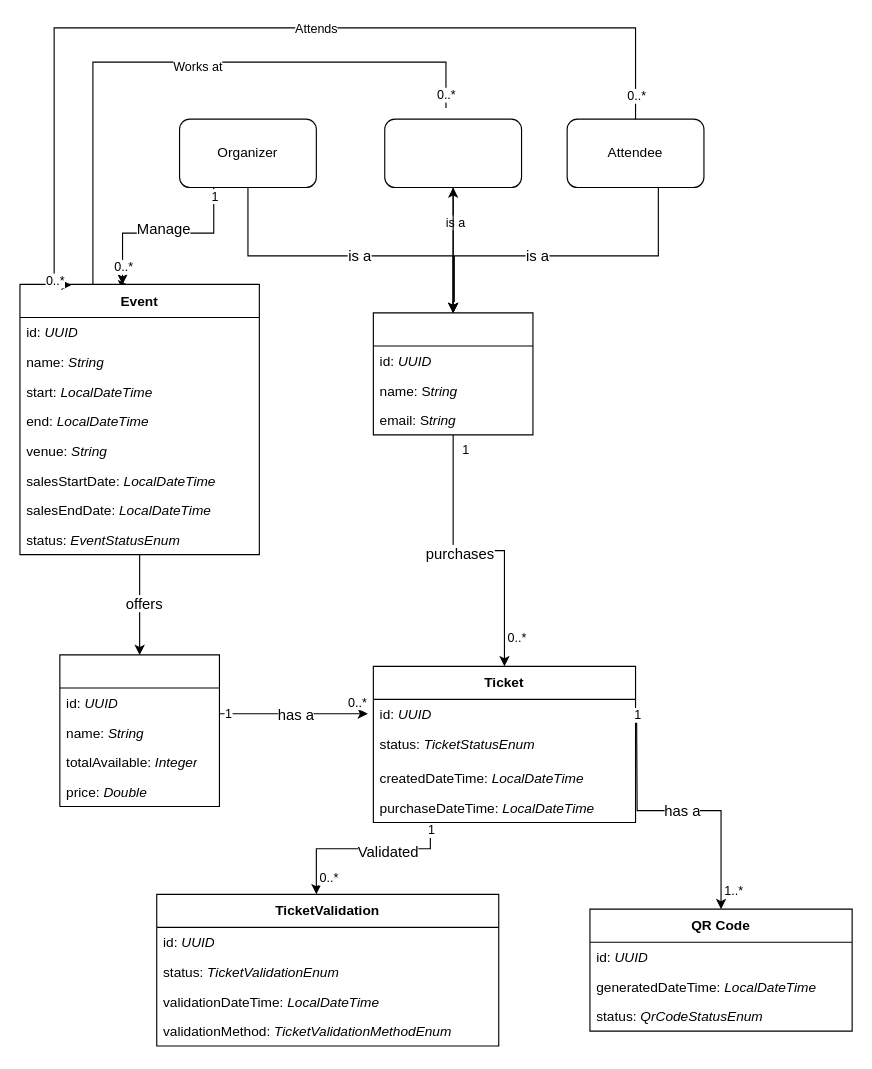
Some shapes in this 872 by 1069 pixel diagram are drawn without their labels. Each missing label, with the box of its shape:
Staff: (384, 118, 522, 188)
TicketType: (59, 654, 219, 807)
User: (372, 312, 533, 435)
